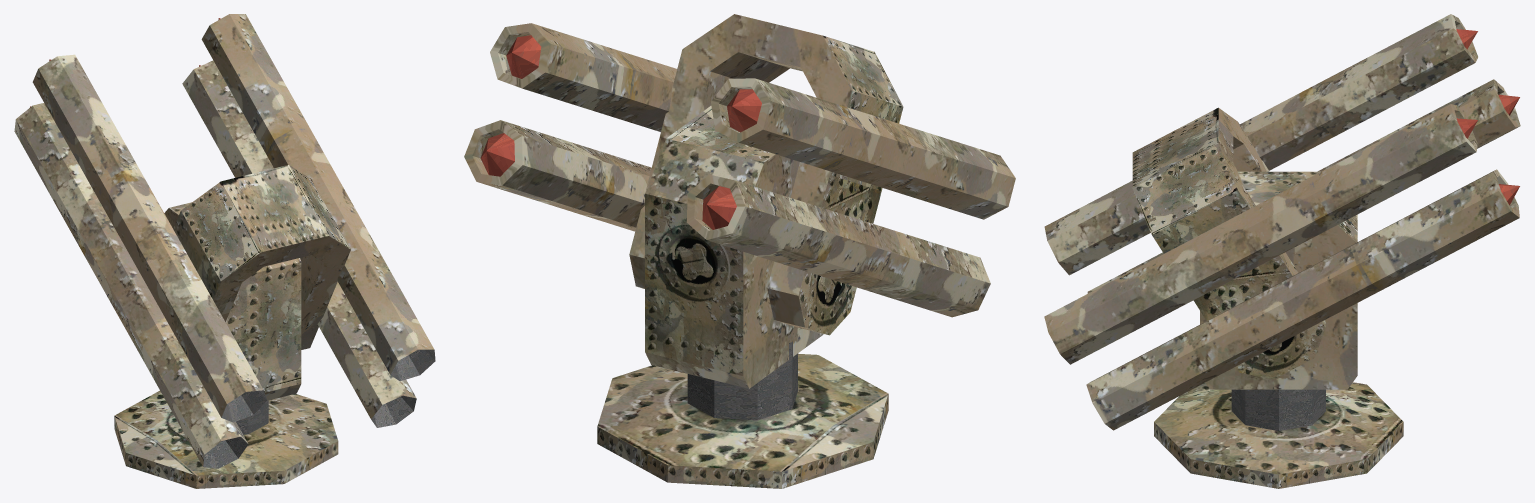
Rendered from mil_samsite.obj.
3 renders of one model, left to right at view 1: azimuth 30°, elevation 25°; view 2: azimuth 150°, elevation 25°; view 3: azimuth 270°, elevation 25°, orthographic. The views are drawn at different scales.
Visible parts, largest first — view 1: mil_samsite; view 2: mil_samsite; view 3: mil_samsite.
Part boxes in pixels (x1,y1,x2,y2): mil_samsite: (14,14,435,488); mil_samsite: (464,14,1015,488); mil_samsite: (1044,14,1520,488).
Bounding box in the file's own units: 1.7 × 2.65 × 3.05.
6 materials, 6 textured.
